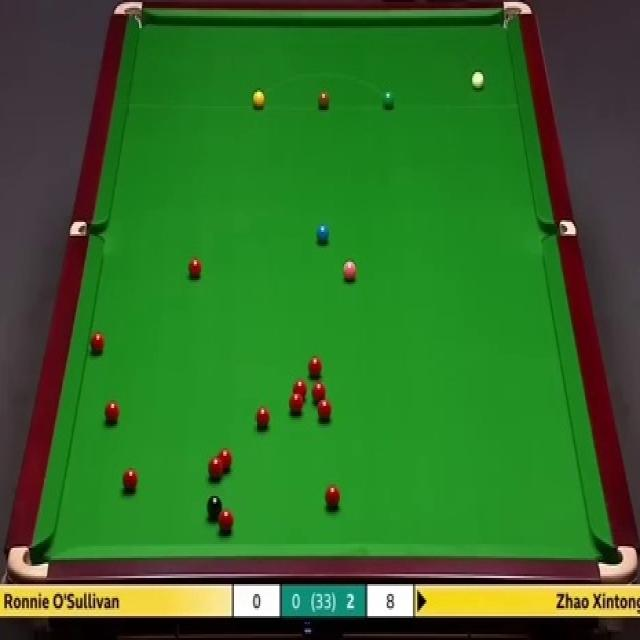pocket: (595, 540, 638, 585), (8, 543, 51, 580), (109, 0, 145, 34), (499, 1, 532, 34), (71, 218, 104, 237), (539, 220, 577, 235)
